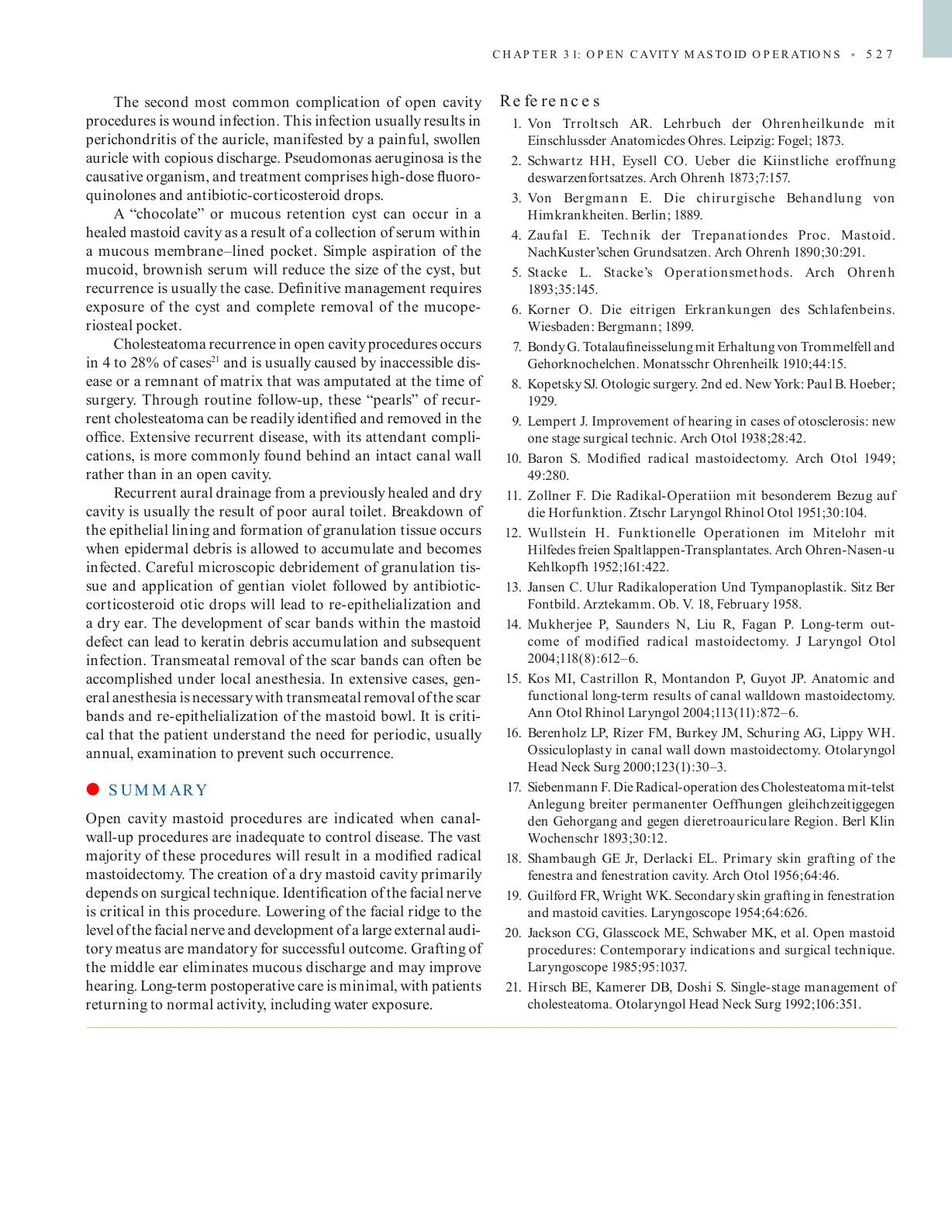header: (491, 48, 843, 61)
list: (502, 114, 899, 1016)
section-heading: (500, 91, 604, 111)
sub-section-heading: (107, 782, 207, 798)
text: (83, 92, 485, 766), (81, 809, 486, 1016)
